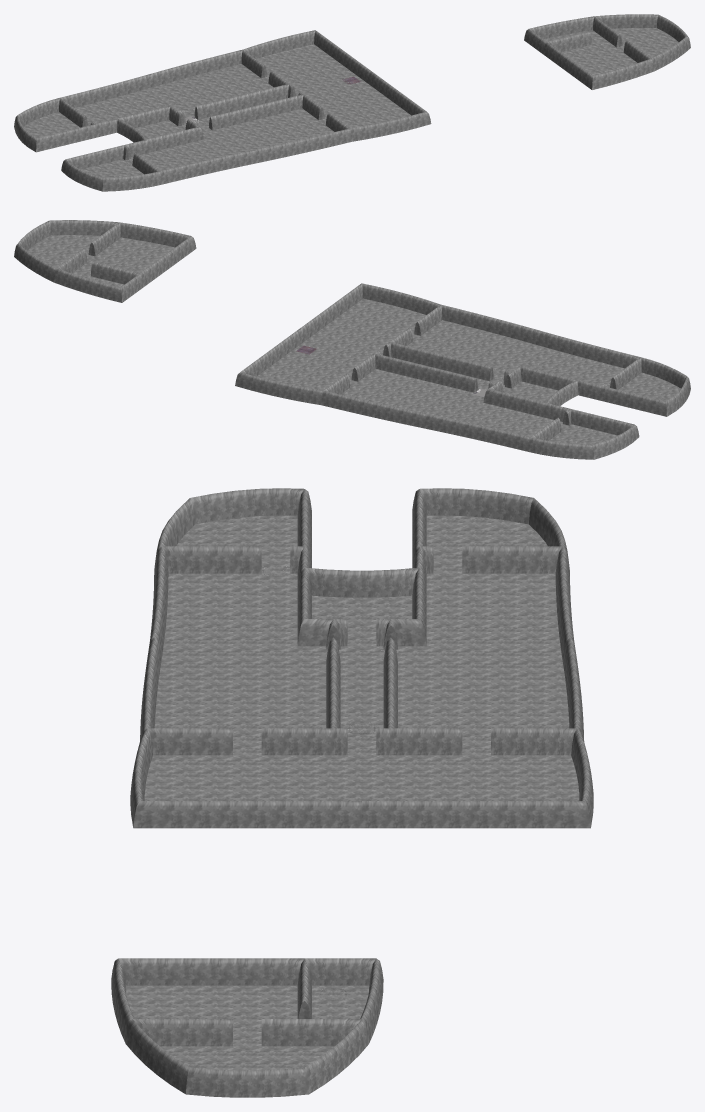
The model's file is level_1.gltf.
The picture shows the model from 3 angles, top to bottom: view 1: azimuth 30°, elevation 25°; view 2: azimuth 150°, elevation 25°; view 3: azimuth 270°, elevation 25°; orthographic projection. The views are drawn at different scales.
Visible parts, largest first — view 1: Mesh_2, Mesh_6, Mesh_7, Mesh_8, Mesh_5, Mesh_1, Mesh_10, Mesh_17, Mesh_15, Mesh_90, Mesh_60, Mesh_27 (+33 smaller); view 2: Mesh_8, Mesh_2, Mesh_6, Mesh_7, Mesh_1, Mesh_5, Mesh_10, Mesh_27, Mesh_29, Mesh_90, Mesh_60, Mesh_17 (+30 smaller); view 3: Mesh_2, Mesh_6, Mesh_8, Mesh_5, Mesh_1, Mesh_7, Mesh_23, Mesh_21, Mesh_10, Mesh_117, Mesh_9, Mesh_109 (+32 smaller).
Part boxes in pixels (<box>): Mesh_2: <box>202,110,331,153</box>; Mesh_6: <box>153,66,270,119</box>; Mesh_7: <box>258,46,363,94</box>; Mesh_8: <box>296,84,407,128</box>; Mesh_5: <box>76,89,163,125</box>; Mesh_1: <box>128,141,235,170</box>; Mesh_10: <box>563,40,634,75</box>; Mesh_17: <box>255,128,351,162</box>; Mesh_15: <box>160,150,256,184</box>; Mesh_90: <box>194,84,289,119</box>; Mesh_60: <box>209,94,303,130</box>; Mesh_27: <box>151,49,242,86</box>; Mesh_8: <box>307,301,424,361</box>; Mesh_2: <box>411,322,538,382</box>; Mesh_6: <box>344,371,484,418</box>; Mesh_7: <box>260,343,361,390</box>; Mesh_1: <box>527,347,622,387</box>; Mesh_5: <box>449,404,565,437</box>; Mesh_10: <box>79,239,172,274</box>; Mesh_27: <box>322,390,426,428</box>; Mesh_29: <box>425,414,530,451</box>; Mesh_90: <box>374,353,477,392</box>; Mesh_60: <box>390,342,493,381</box>; Mesh_17: <box>441,304,540,345</box>; Mesh_2: <box>162,645,327,752</box>; Mesh_6: <box>396,645,562,752</box>; Mesh_8: <box>152,752,387,800</box>; Mesh_5: <box>433,570,555,659</box>; Mesh_1: <box>169,570,290,659</box>; Mesh_7: <box>372,752,572,800</box>; Mesh_23: <box>362,801,590,828</box>; Mesh_21: <box>133,801,361,828</box>; Mesh_10: <box>132,988,290,1043</box>; Mesh_117: <box>118,958,304,985</box>; Mesh_9: <box>339,643,384,752</box>; Mesh_109: <box>185,1067,308,1097</box>.
Size of the model in its own units: 78.91 by 1.52 by 27.36.
6 materials, 6 textured.
